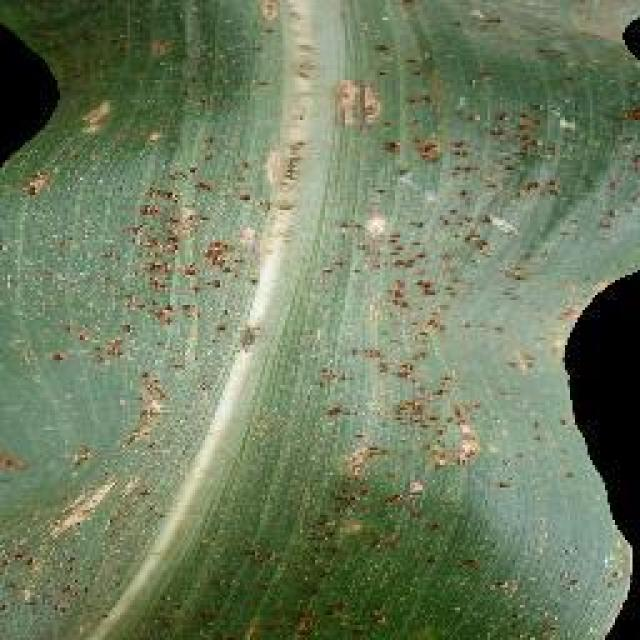Corn Common Rust: (73, 55, 545, 535)
